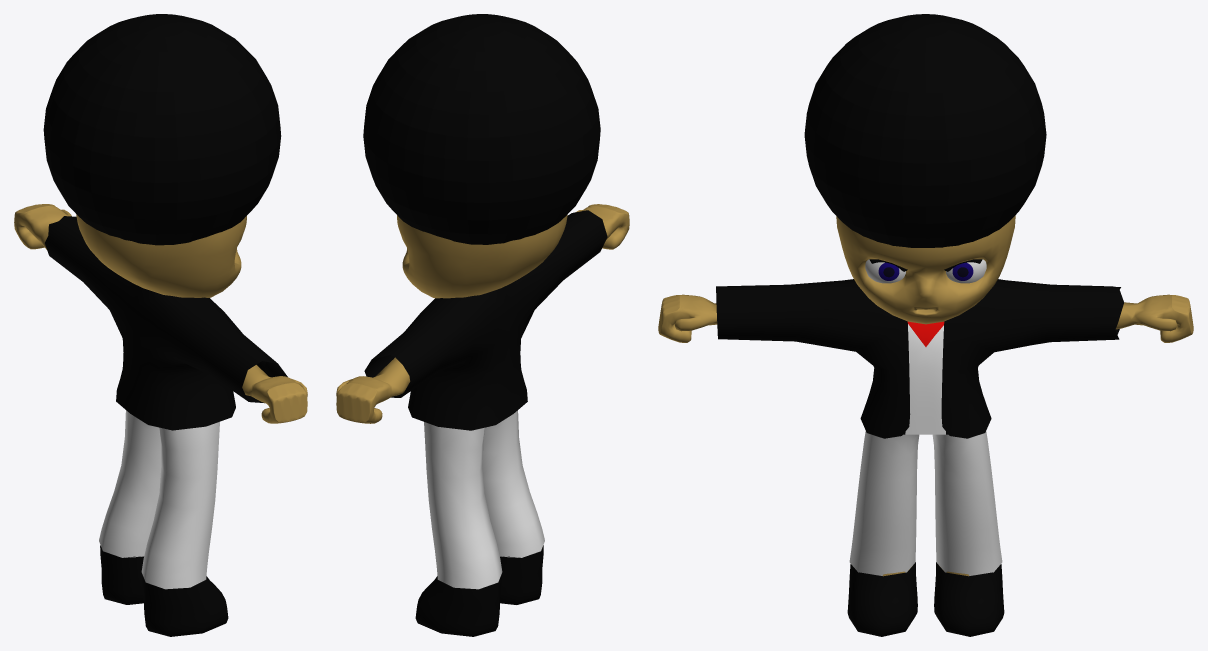
File: NPC4.fbx
3 views of the same model, side by side, from view 1: azimuth 30°, elevation 25°; view 2: azimuth 150°, elevation 25°; view 3: azimuth 270°, elevation 25° (orthographic).
Visible parts, largest first — view 1: Sphere, SHIRT, Body.002, Body, Head; view 2: Sphere, SHIRT, Body.002, Body, Head; view 3: Sphere, SHIRT, Body.002, Body, Head, Eyeball.
Part boxes in pixels (x1=…): Sphere: x1=43, y1=14, x2=281, y2=245; SHIRT: x1=45, y1=216, x2=287, y2=430; Body.002: x1=99, y1=410, x2=219, y2=589; Body: x1=14, y1=204, x2=307, y2=636; Head: x1=76, y1=214, x2=246, y2=297; Sphere: x1=363, y1=14, x2=600, y2=244; SHIRT: x1=364, y1=210, x2=607, y2=430; Body.002: x1=424, y1=410, x2=544, y2=589; Body: x1=336, y1=204, x2=629, y2=636; Head: x1=397, y1=215, x2=567, y2=298; Sphere: x1=804, y1=14, x2=1046, y2=247; SHIRT: x1=716, y1=279, x2=1124, y2=438; Body.002: x1=849, y1=431, x2=1002, y2=575; Body: x1=658, y1=294, x2=1193, y2=636; Head: x1=836, y1=215, x2=1015, y2=324; Eyeball: x1=865, y1=259, x2=986, y2=283.
Size of the model in its own units: 99.76 by 271 by 221.
